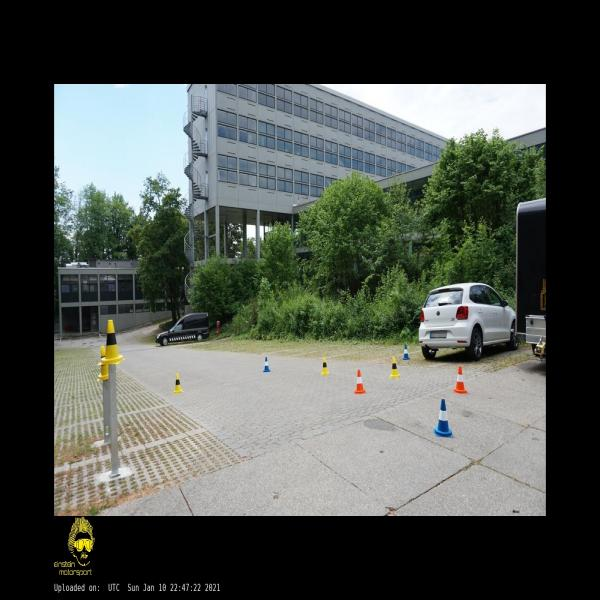blue_cone: (433, 399, 454, 437), (401, 344, 410, 360), (262, 356, 271, 372)
orange_cone: (452, 366, 468, 394), (354, 369, 367, 394)
yellow_cone: (97, 319, 126, 365), (97, 346, 109, 380), (388, 357, 401, 378), (173, 373, 184, 394), (320, 356, 330, 376)
